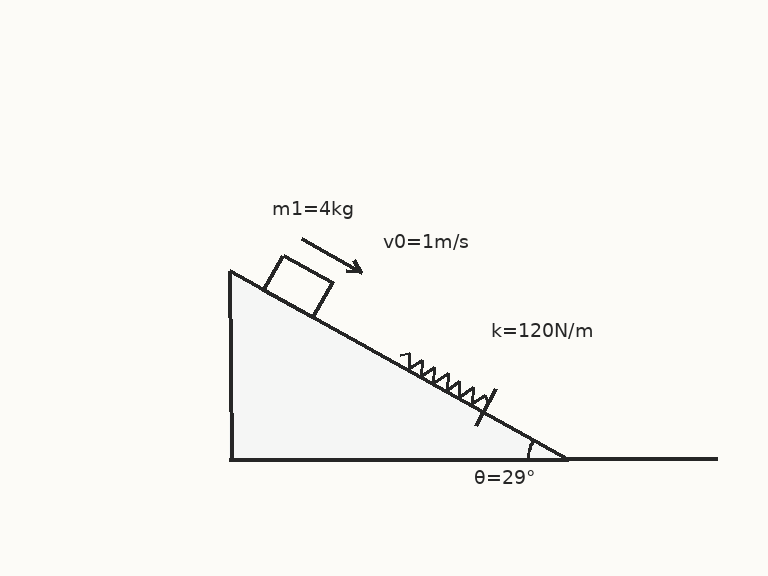block: (261, 252, 334, 319)
ramp: (228, 269, 570, 461)
spring: (398, 351, 490, 406)
